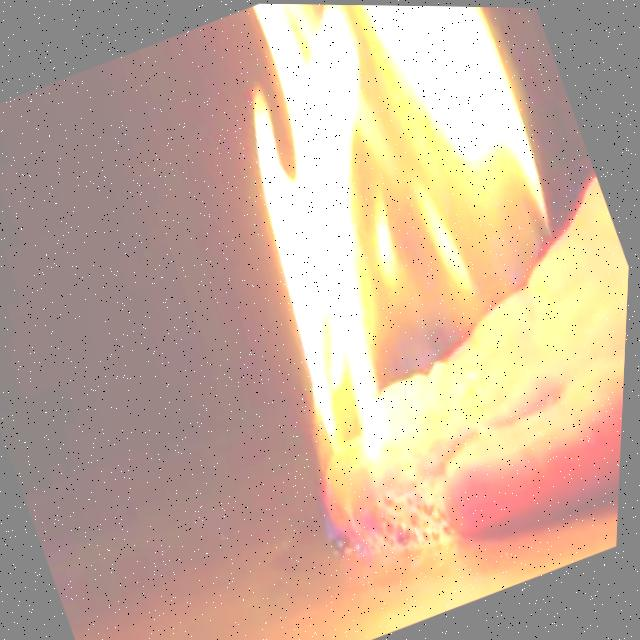Fire: (148, 2, 640, 525)
